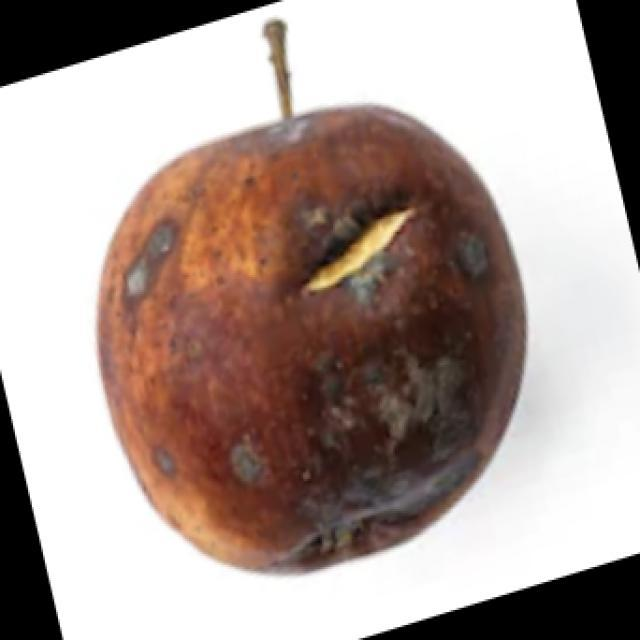Rotten: (113, 90, 527, 575)
